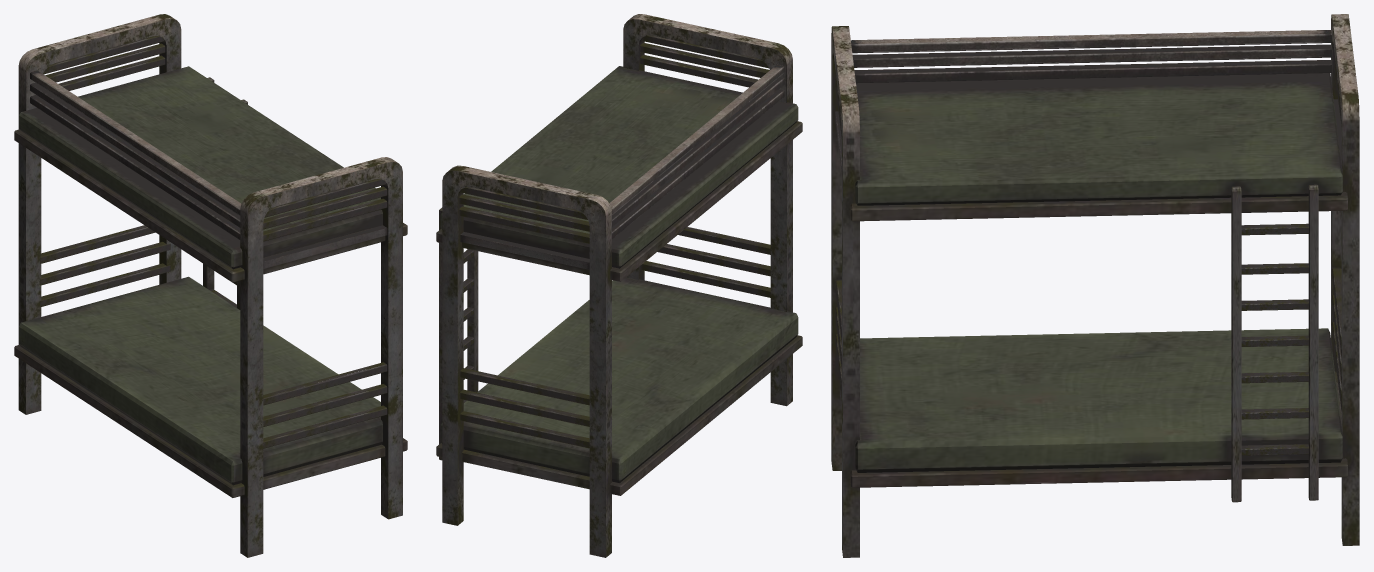
The model's file is bunk-bed.glb.
3 renders of one model, left to right at view 1: azimuth 30°, elevation 25°; view 2: azimuth 150°, elevation 25°; view 3: azimuth 270°, elevation 25°, orthographic. The views are drawn at different scales.
Visible parts, largest first — view 1: g; view 2: g; view 3: g.
Boxes of the visible parts, x1,y1,x2,y2 form: g: (14,14,407,557); g: (436,14,802,557); g: (831,14,1359,557).
Size of the model in its own units: 1.08 by 1.85 by 2.
Materials: 1 (1 with a texture image).
